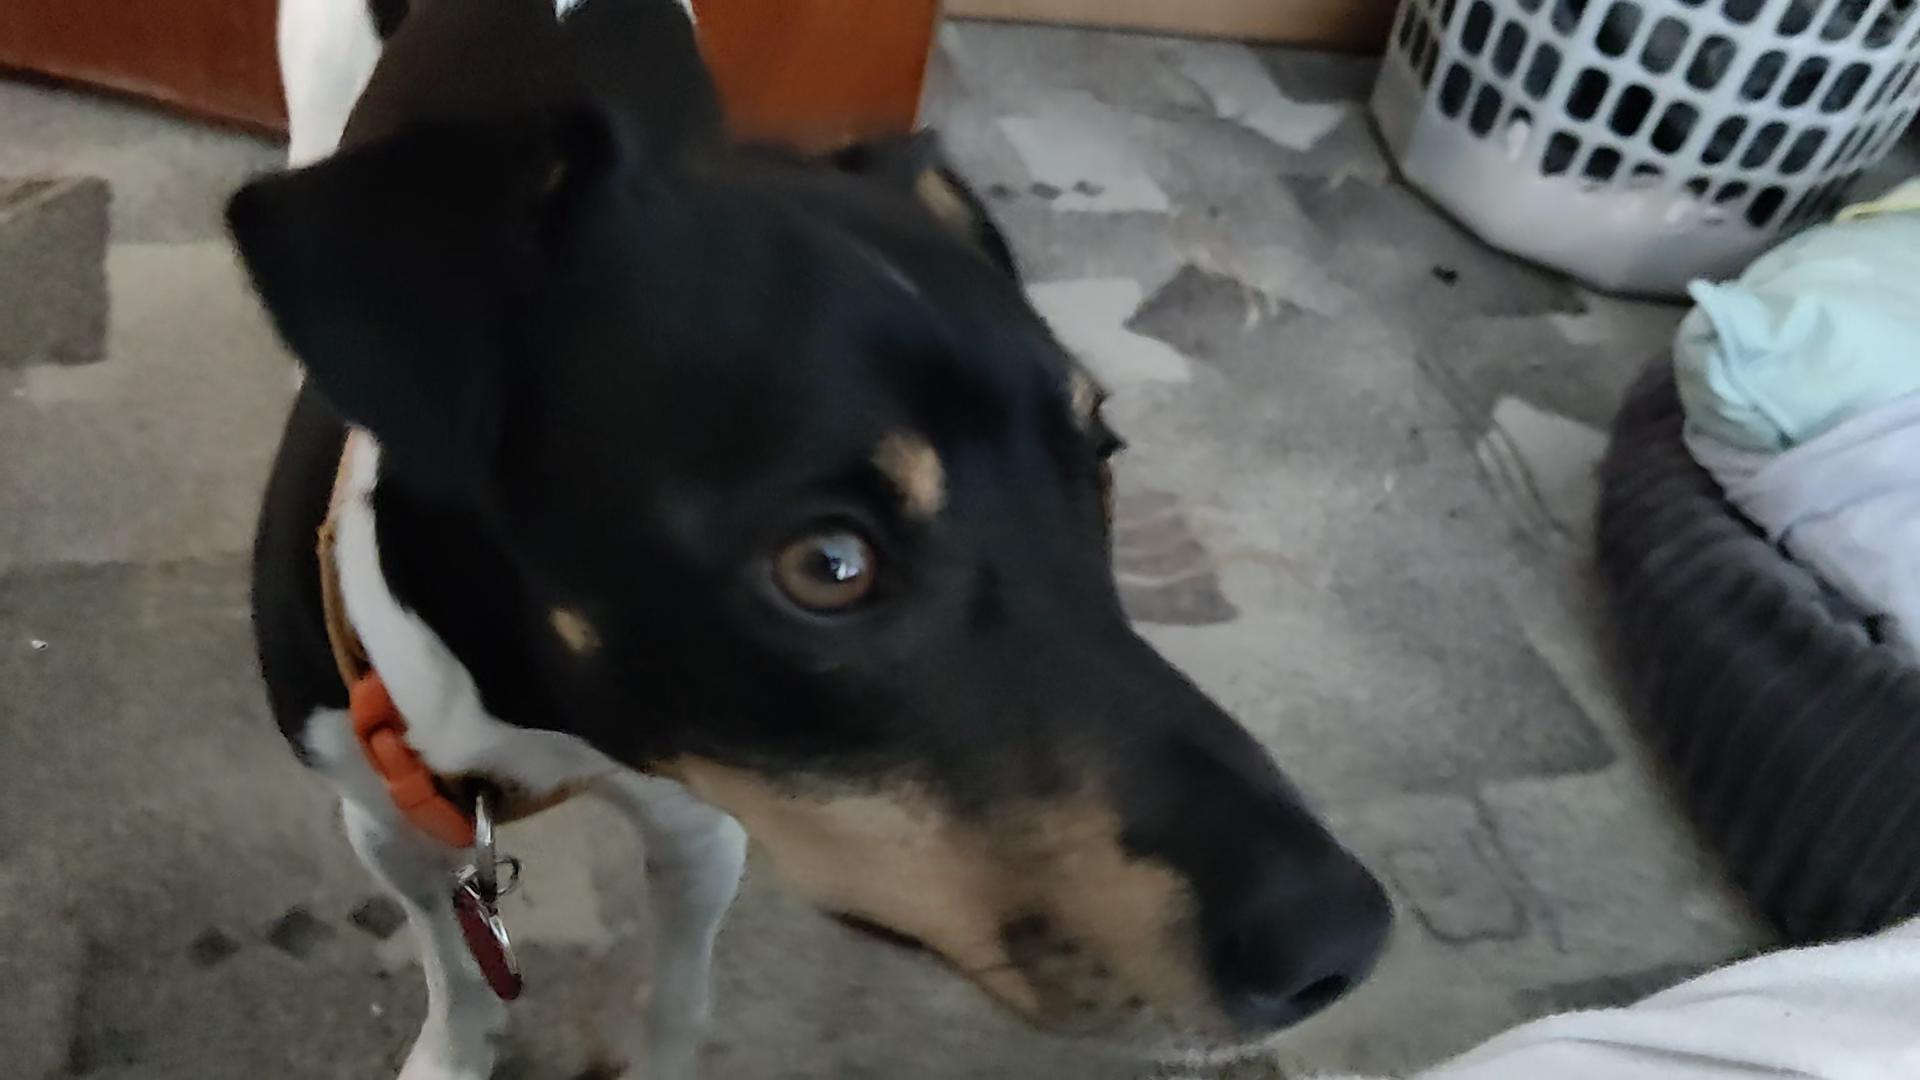Dog: (208, 0, 1427, 1079)
